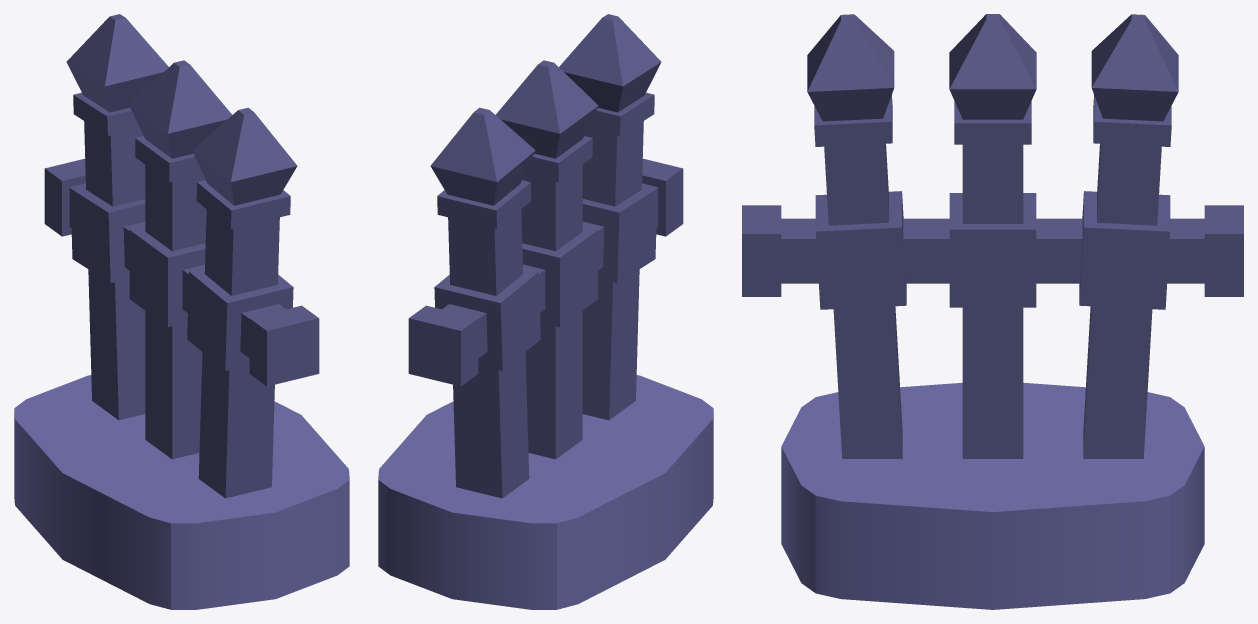
File: Fence.fbx
3 views of the same model, side by side, from view 1: azimuth 30°, elevation 25°; view 2: azimuth 150°, elevation 25°; view 3: azimuth 270°, elevation 25° (orthographic). The views are drawn at different scales.
Parts seen in each view (by area): view 1: Fence; view 2: Fence; view 3: Fence.
Boxes of the visible parts, x1,y1,x2,y2 form: Fence: (14,14,349,609); Fence: (378,14,713,609); Fence: (742,14,1243,609).
Bounding box in the file's own units: 144 × 270 × 232.
